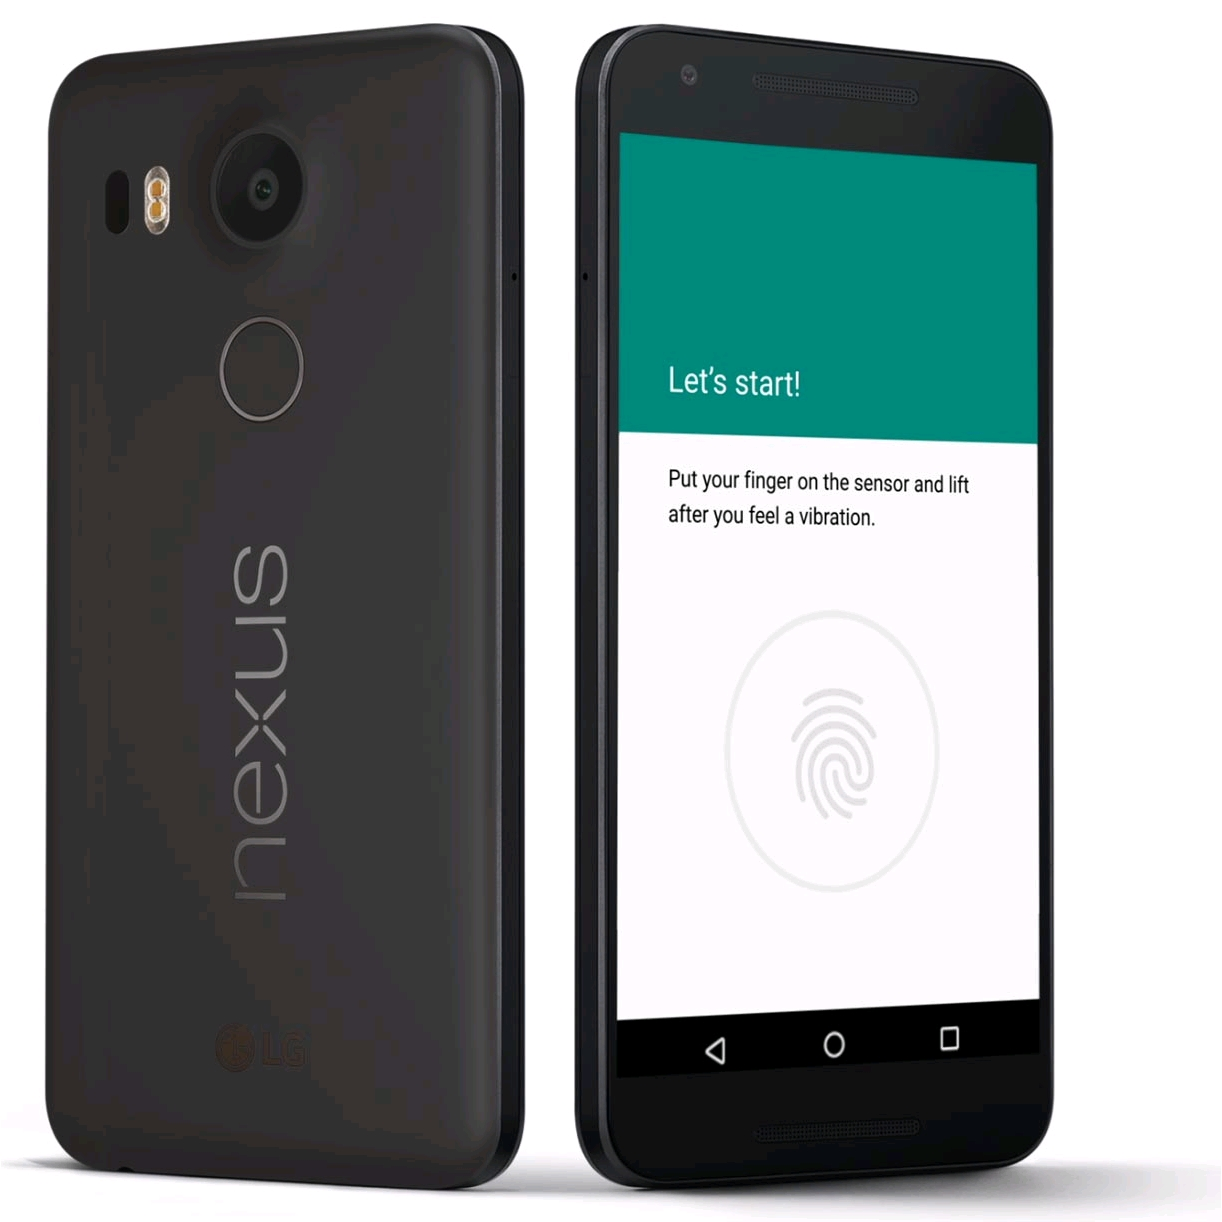smartphone: (44, 22, 526, 1191), (573, 25, 1055, 1188)
